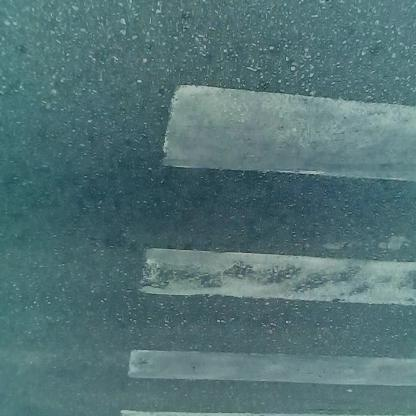crosswalk: (119, 58, 416, 413)
